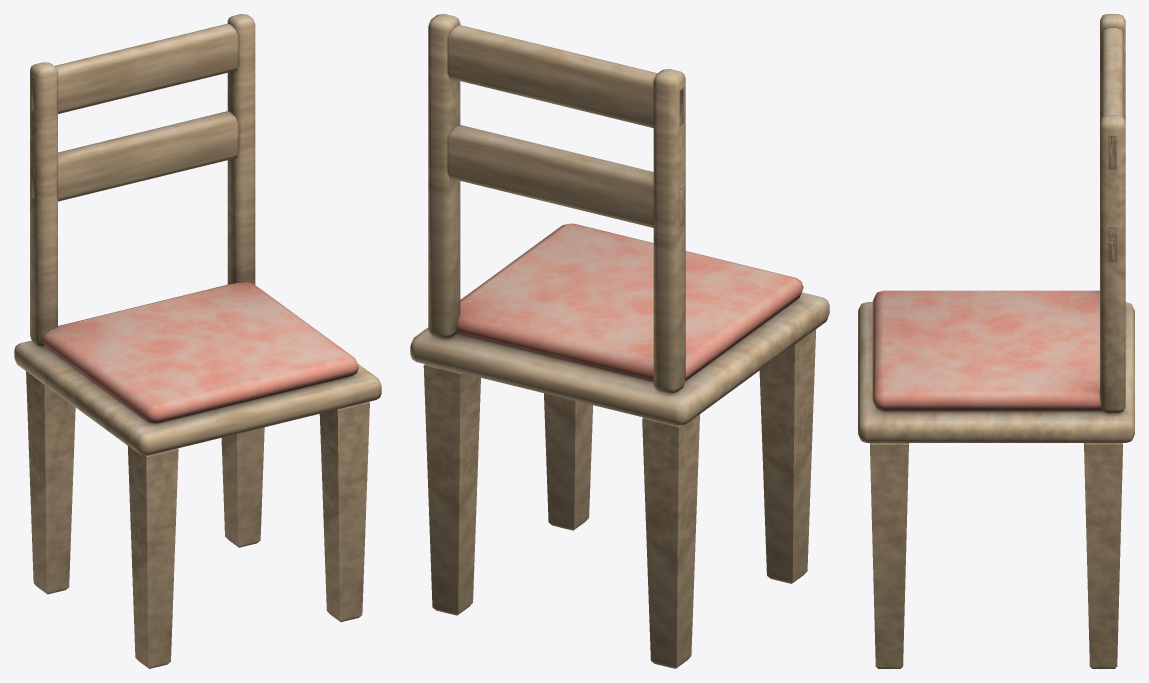
Rendered from kitchen_chair.fbx.
The picture shows the model from 3 angles, left to right: view 1: azimuth 30°, elevation 25°; view 2: azimuth 150°, elevation 25°; view 3: azimuth 270°, elevation 25°; orthographic projection. The views are drawn at different scales.
Parts seen in each view (by area): view 1: Body; view 2: Body; view 3: Body.
Part boxes in pixels (bbox=[...]): Body: bbox=[14, 14, 381, 668]; Body: bbox=[410, 14, 829, 668]; Body: bbox=[858, 14, 1134, 668].
Bounding box in the file's own units: 1.6 × 3.28 × 1.5.
Materials: 1 (1 with a texture image).
